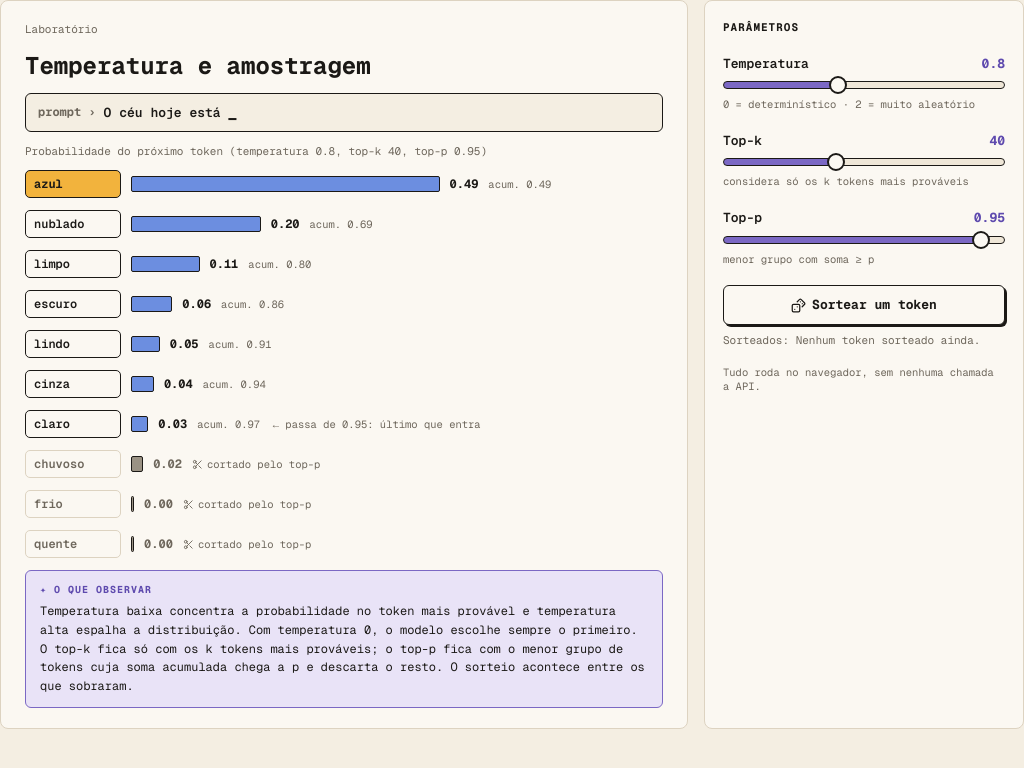
Scenario: SamplingPlayground (LAB-01.1, LAB-01.2) › temperatura 0 concentra tudo no topo e o sorteio com seed só tira o primeiro
This screenshot has width=1024, height=768.
Set the slider labelled "Temperatura" to "0" at (731, 85), box [723,81,1005,89]
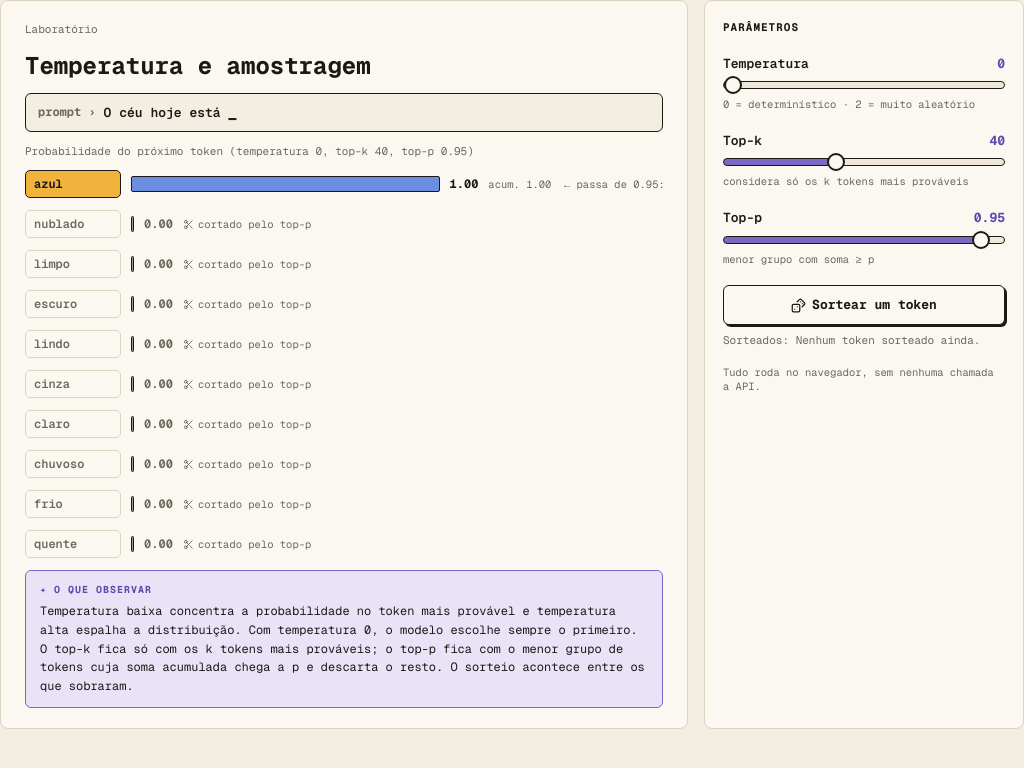
Result: the text "1.00" is shown at [450,176,478,192]
Click the button "Sortear um token" at (864, 305), box [723,285,1005,325]
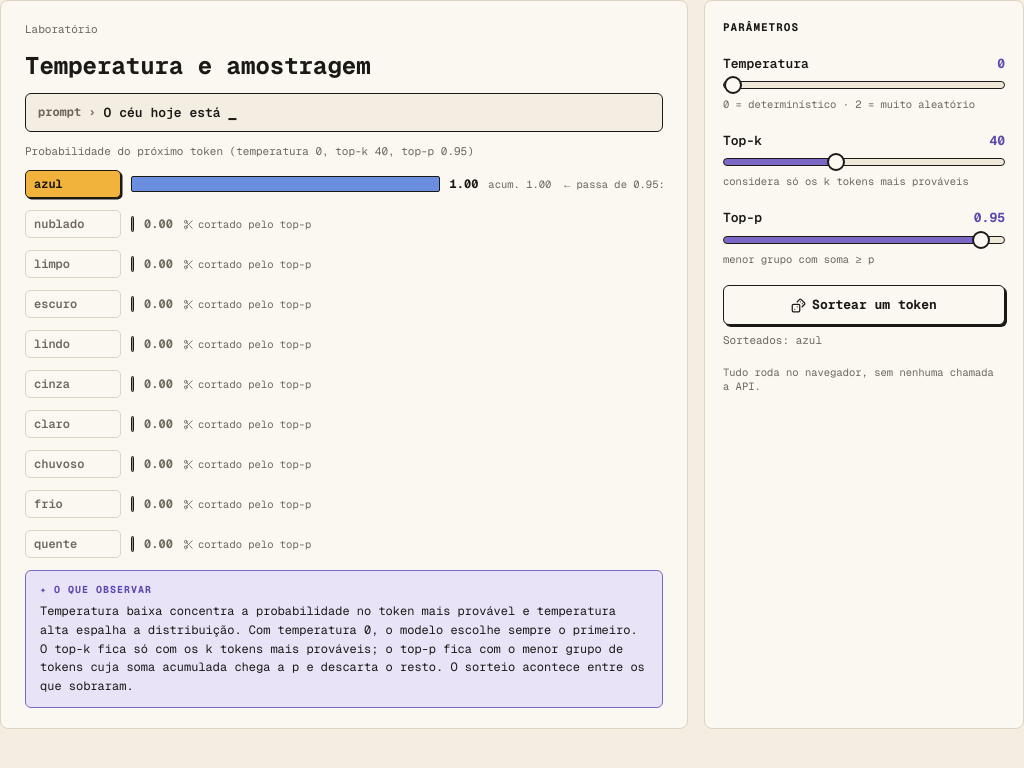
Click the button "Sortear um token" at (864, 305), box [723,285,1005,325]
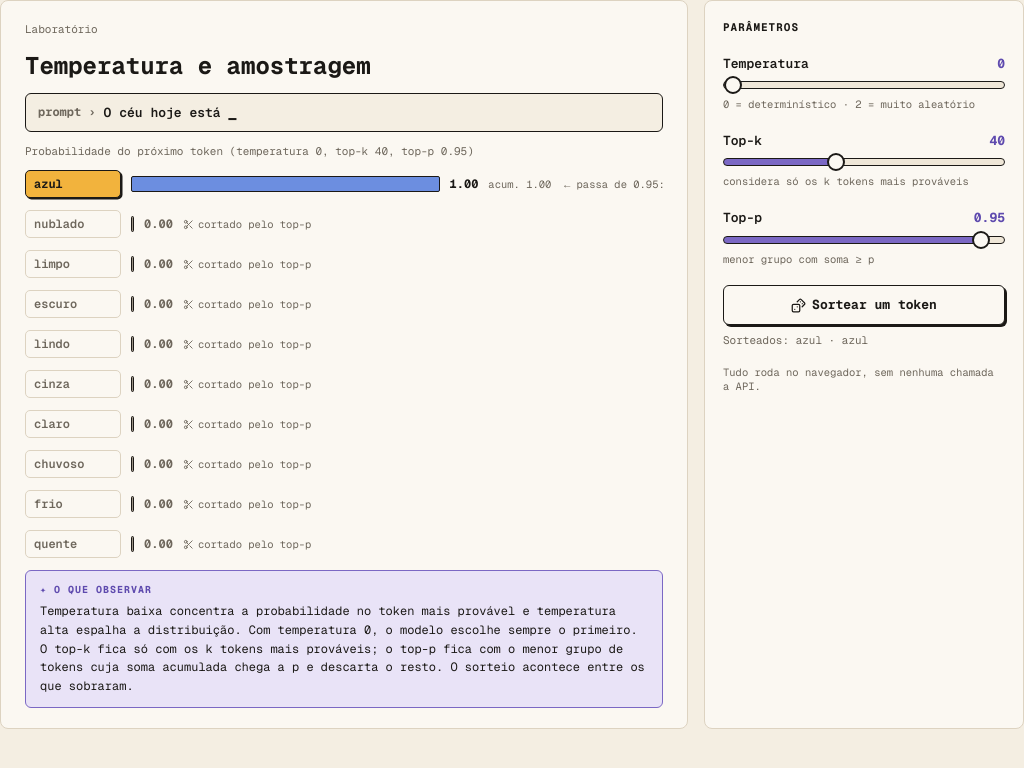
Click the button "Sortear um token" at (864, 305), box [723,285,1005,325]
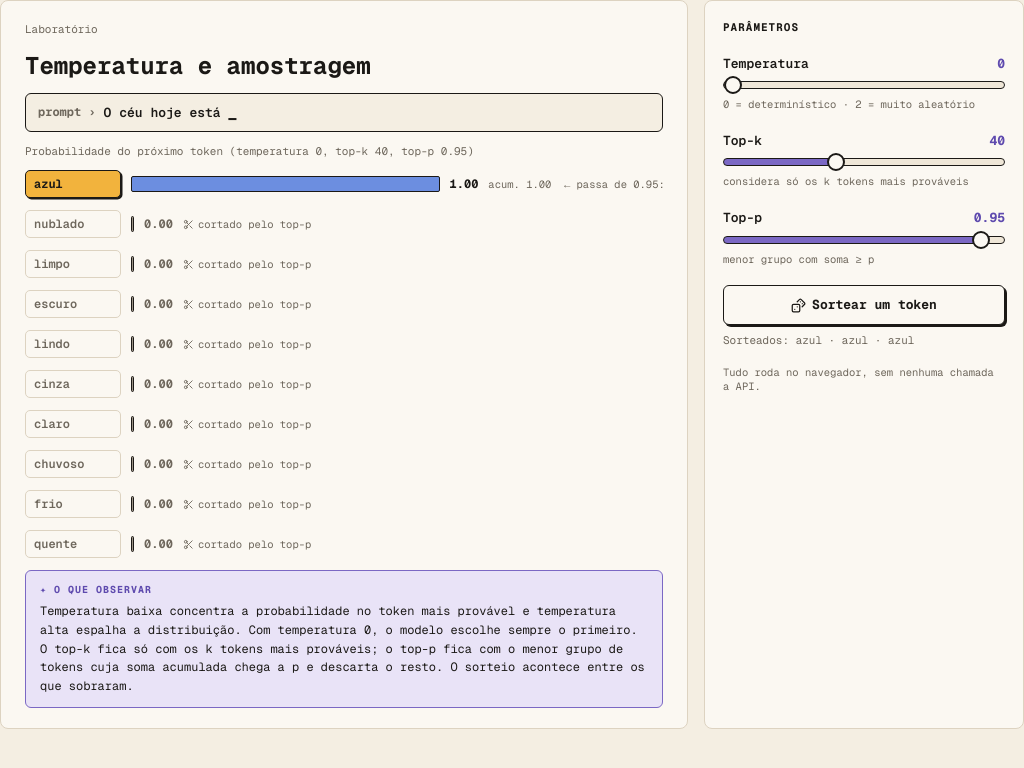
Click the button "Sortear um token" at (864, 305), box [723,285,1005,325]
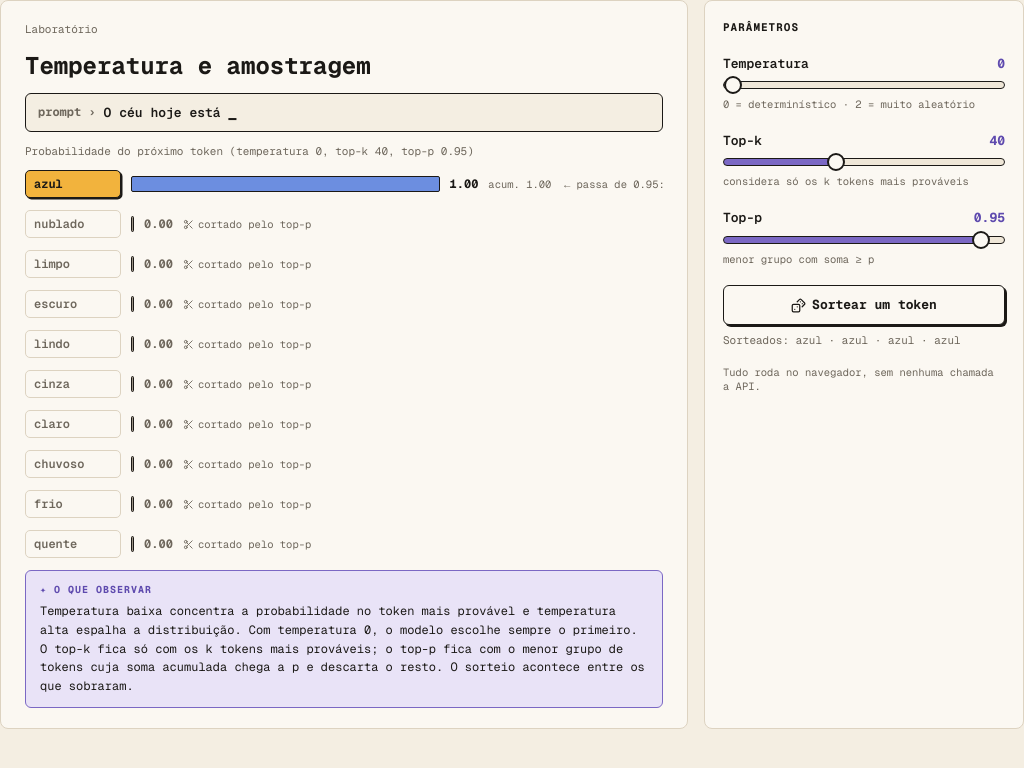
Click the button "Sortear um token" at (864, 305), box [723,285,1005,325]
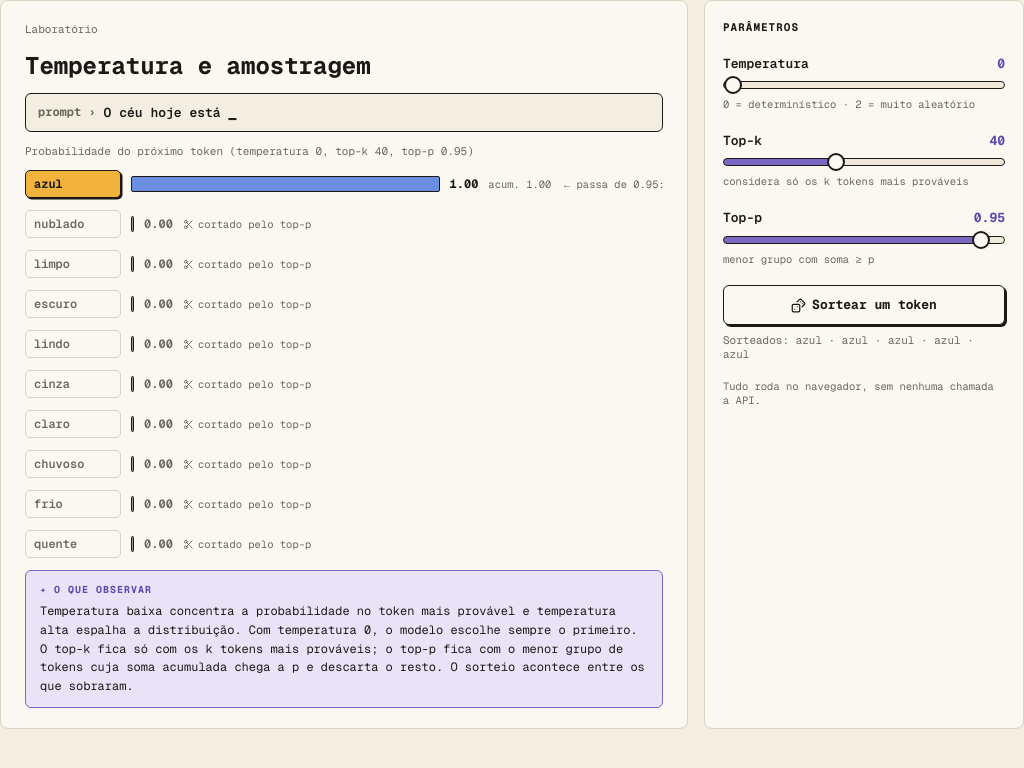
Result: the text "azul · azul · azul · azul · azul" is shown at [723,333,974,361]
